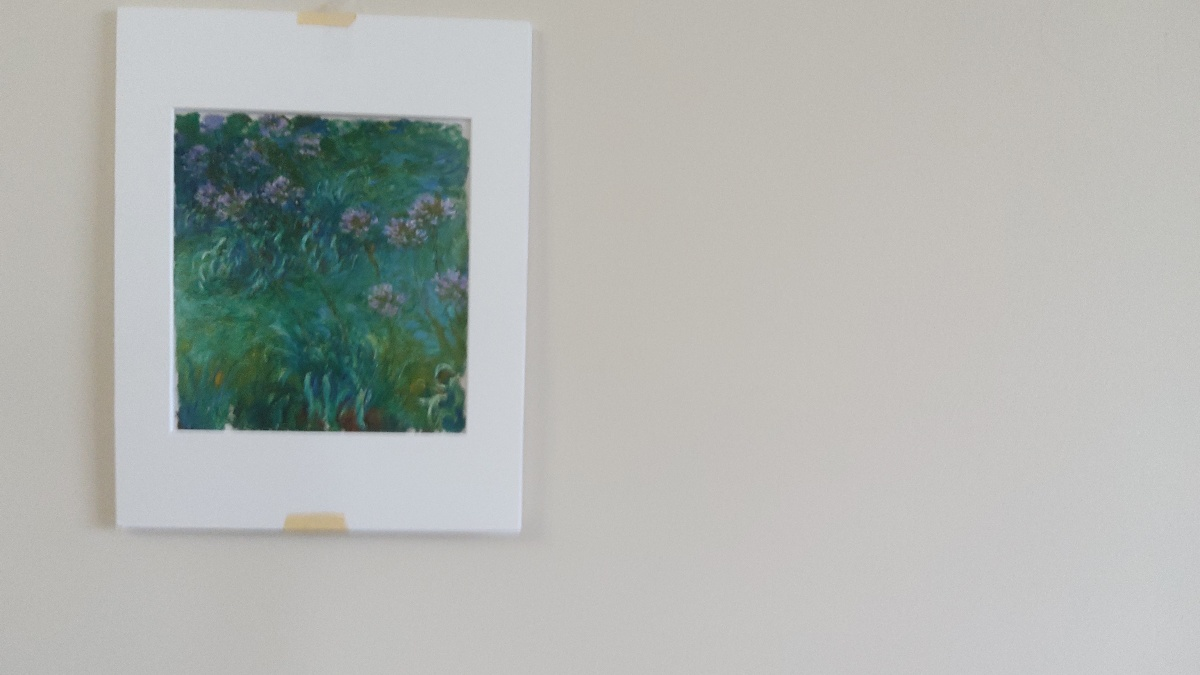painting: (162, 93, 482, 441)
